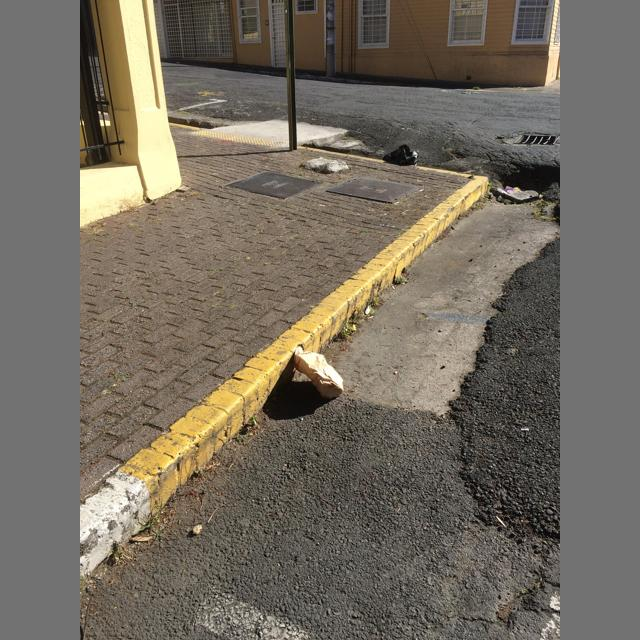litter: (294, 346, 344, 399), (382, 147, 419, 166), (503, 187, 522, 195), (497, 195, 511, 204)
